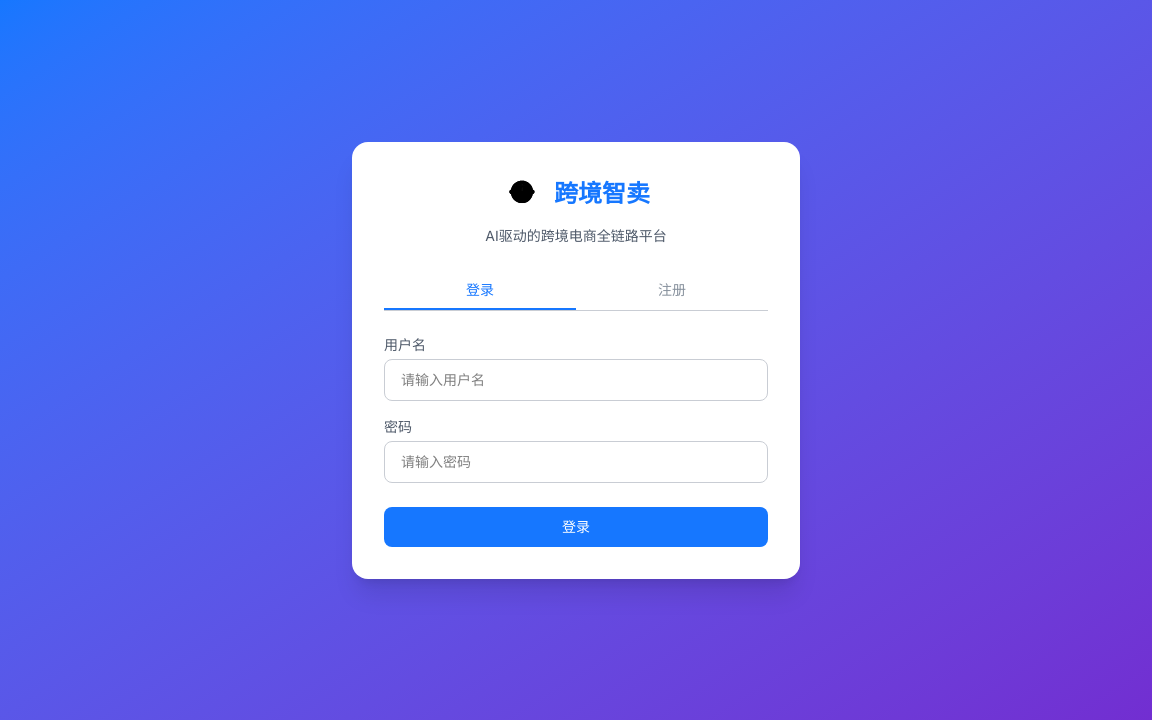
it: LoginPage - Register Validation › validates required fields empty shows error
Click the button "注册": {"x": 672, "y": 290} [576,270,768,310]
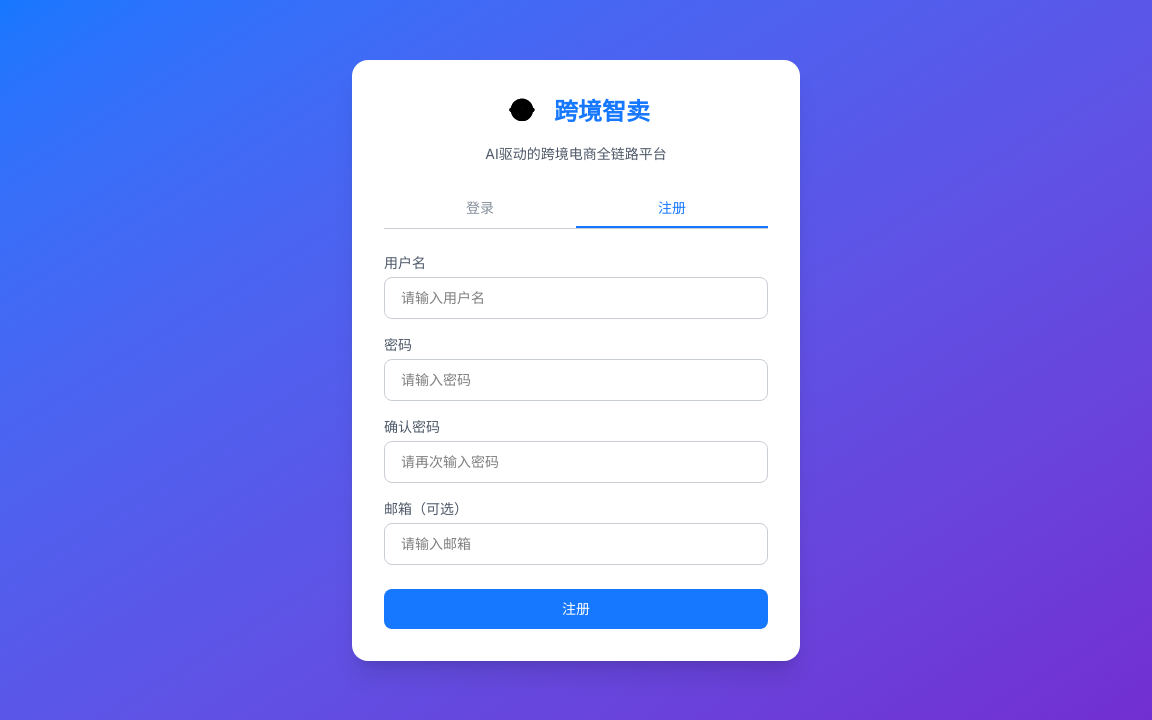
Click the 2nd button "注册": {"x": 576, "y": 608} [384,588,768,628]
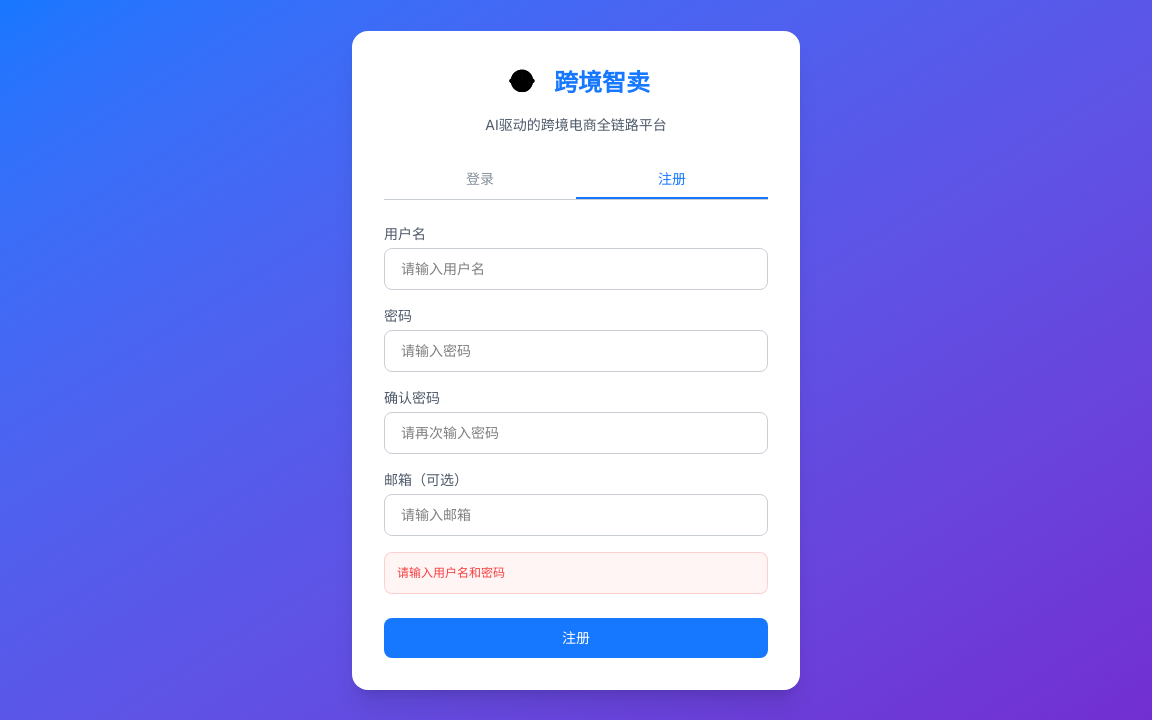
expect the text "请输入用户名和密码" is shown: met, box [397,564,505,580]
